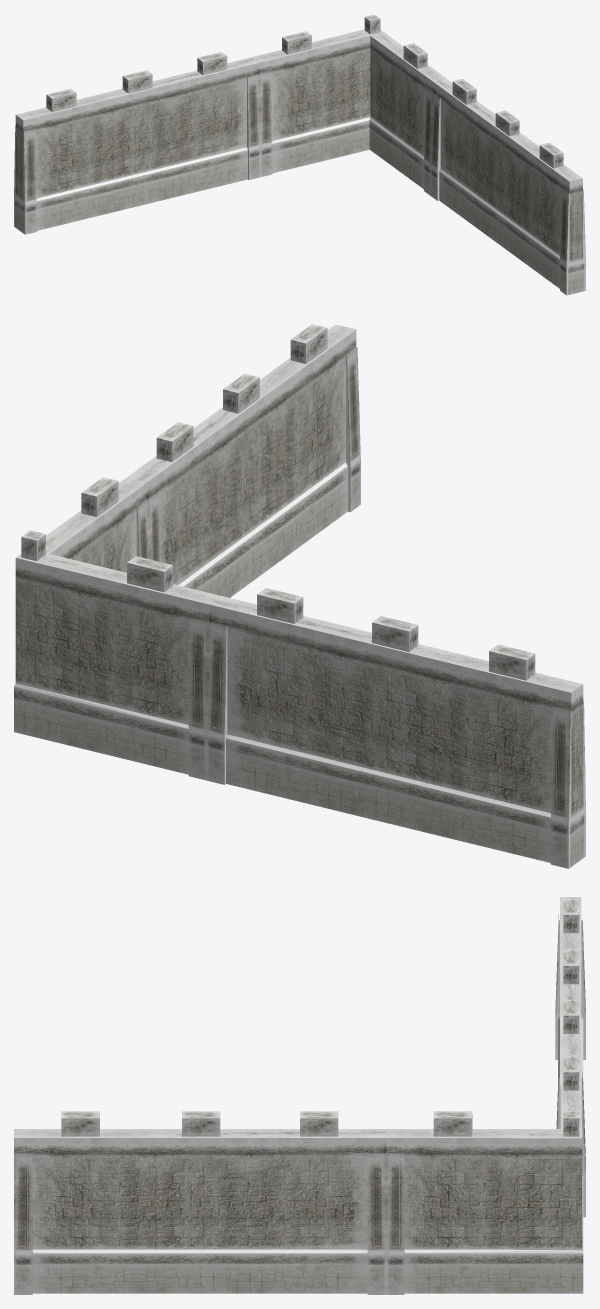
File: snow-bigdam-05.glb
3 views of the same model, one above another, from view 1: azimuth 30°, elevation 25°; view 2: azimuth 150°, elevation 25°; view 3: azimuth 270°, elevation 25° (orthographic). The views are drawn at different scales.
Visible parts, largest first — view 1: snow-bigdam-01; view 2: snow-bigdam-01; view 3: snow-bigdam-01.
Part boxes in pixels (<box>): snow-bigdam-01: <box>14,14,585,295</box>; snow-bigdam-01: <box>14,324,585,868</box>; snow-bigdam-01: <box>14,897,585,1294</box>.
Bounding box in the file's own units: 15.44 × 5.14 × 15.37.
1 material, 1 textured.
